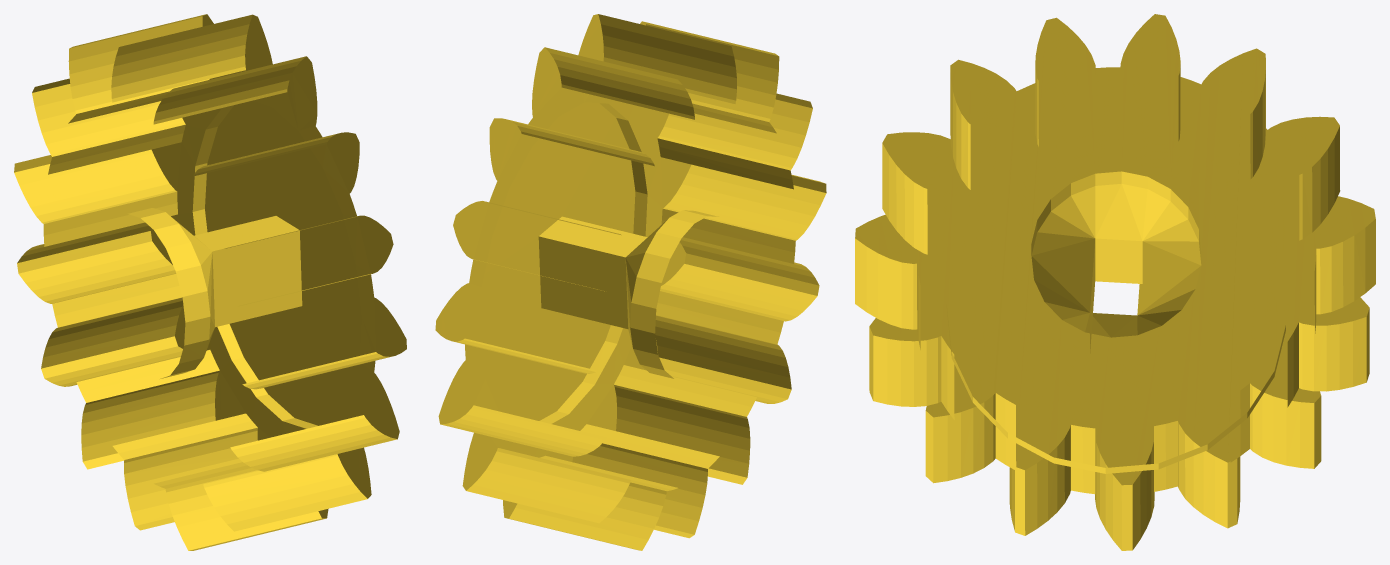
Rendered from G-__564753.011.dae.balanced.glb.
3 renders of one model, left to right at view 1: azimuth 30°, elevation 25°; view 2: azimuth 150°, elevation 25°; view 3: azimuth 270°, elevation 25°, orthographic.
Bounding box in the file's own units: 0.0675 × 0.2062 × 0.2064.
